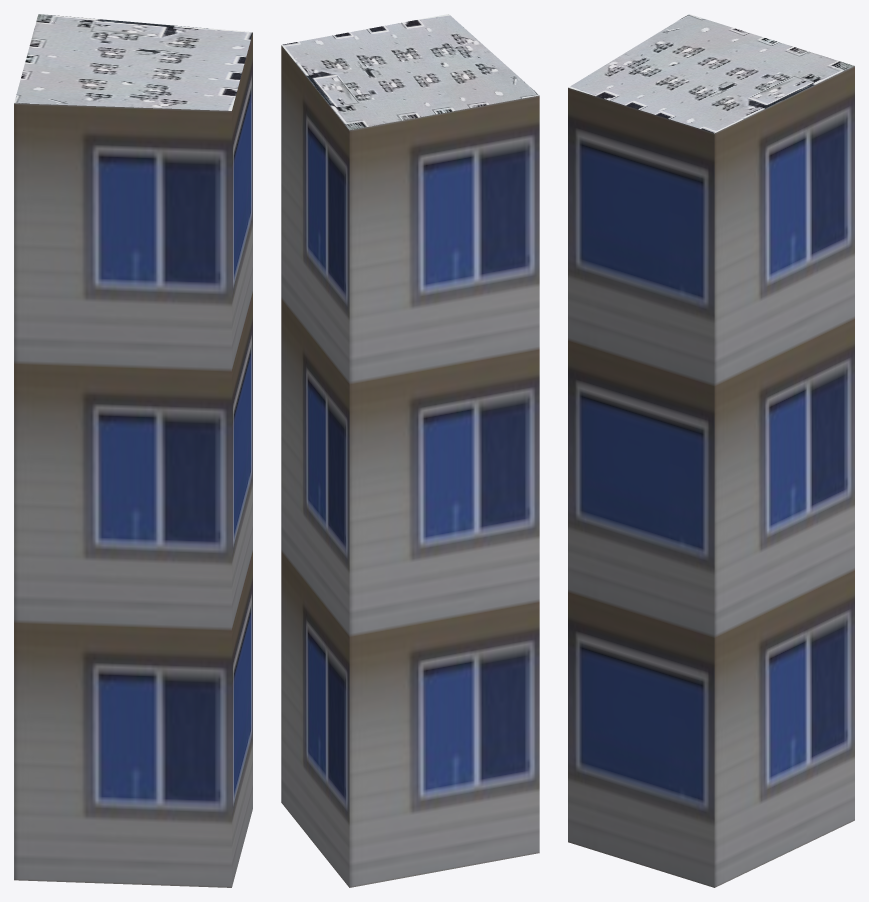
File: ResTex__2963.fbx
3 views of the same model, side by side, from view 1: azimuth 30°, elevation 25°; view 2: azimuth 150°, elevation 25°; view 3: azimuth 270°, elevation 25° (orthographic). The views are drawn at different scales.
Parts seen in each view (by area): view 1: CityEngineMaterial_23_m, CityEngineMaterial_4_m; view 2: CityEngineMaterial_23_m, CityEngineMaterial_4_m; view 3: CityEngineMaterial_23_m, CityEngineMaterial_4_m.
Part boxes in pixels (x1,y1,x2,y2): CityEngineMaterial_23_m: (14, 32, 252, 887); CityEngineMaterial_4_m: (14, 14, 252, 110); CityEngineMaterial_23_m: (281, 45, 539, 887); CityEngineMaterial_4_m: (281, 14, 539, 130); CityEngineMaterial_23_m: (568, 66, 854, 887); CityEngineMaterial_4_m: (568, 14, 854, 133).
Bounding box in the file's own units: 3.05 × 9 × 3.1.
2 materials, 2 textured.
